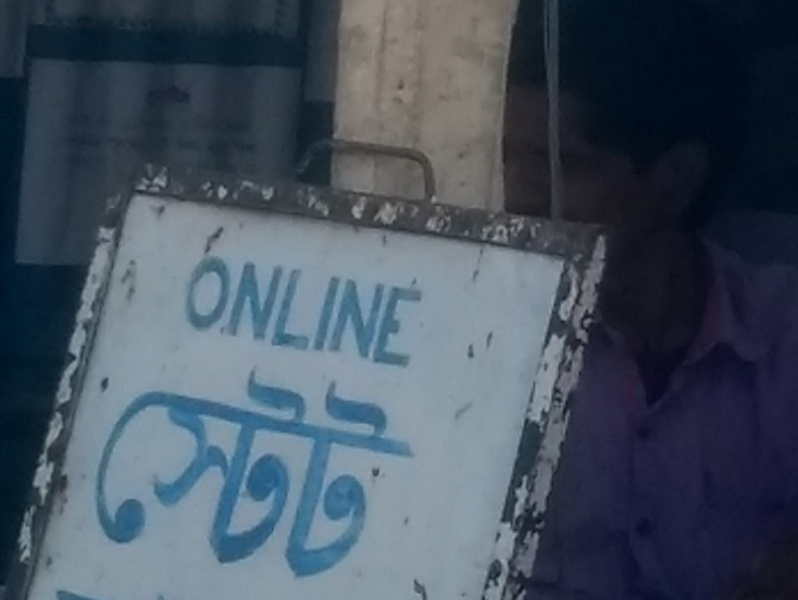text: (145, 340, 160, 593), (161, 340, 176, 593), (177, 340, 192, 593), (193, 340, 208, 593), (209, 340, 224, 593), (225, 340, 240, 593), (241, 340, 256, 593), (257, 340, 272, 593), (273, 340, 288, 593), (289, 340, 304, 593), (305, 340, 320, 593), (321, 340, 336, 593), (337, 340, 352, 593), (353, 340, 368, 593), (369, 340, 384, 593), (385, 340, 400, 593), (401, 340, 416, 593), (417, 340, 432, 593), (133, 340, 144, 593), (433, 340, 444, 593), (417, 249, 433, 388), (209, 249, 224, 388), (225, 249, 240, 388), (241, 249, 256, 388), (257, 249, 272, 388), (273, 249, 288, 388), (289, 249, 304, 388), (305, 249, 320, 388), (321, 249, 336, 388), (337, 249, 352, 388), (353, 249, 368, 388), (369, 249, 384, 388), (385, 249, 400, 388), (401, 249, 416, 388), (194, 249, 208, 388)
